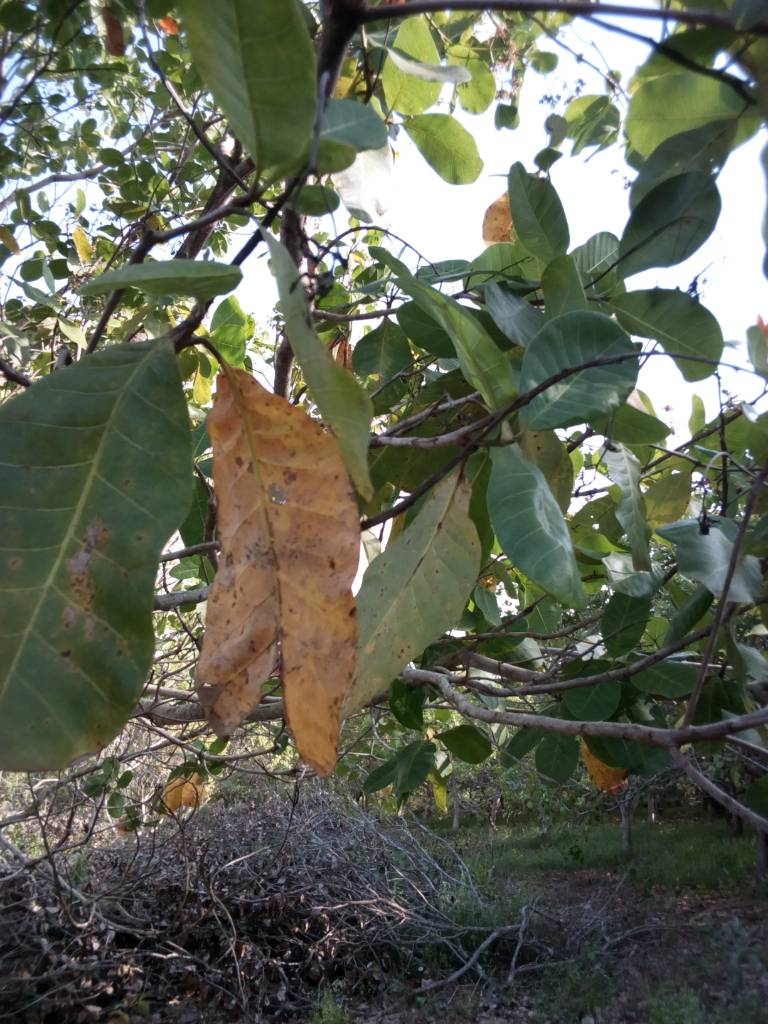Anthracnose: (1, 338, 196, 774), (204, 380, 360, 777)
